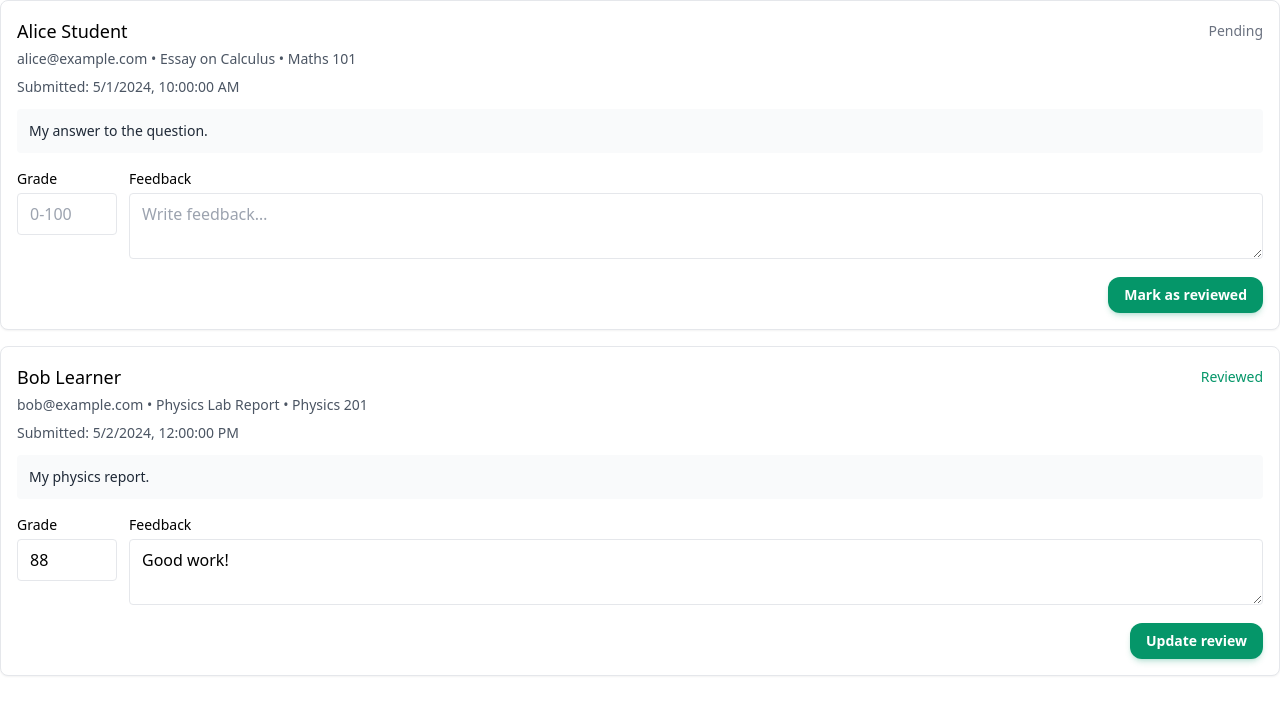
Test case: SubmissionReviewList › shows "Failed to save" on network error during review (FR9)
This screenshot has width=1280, height=720.
Expected: the heading "Alice Student" is shown, [17,17,128,45]
Click the button "Mark as reviewed".
click(1186, 295)  # box [1108,277,1263,313]
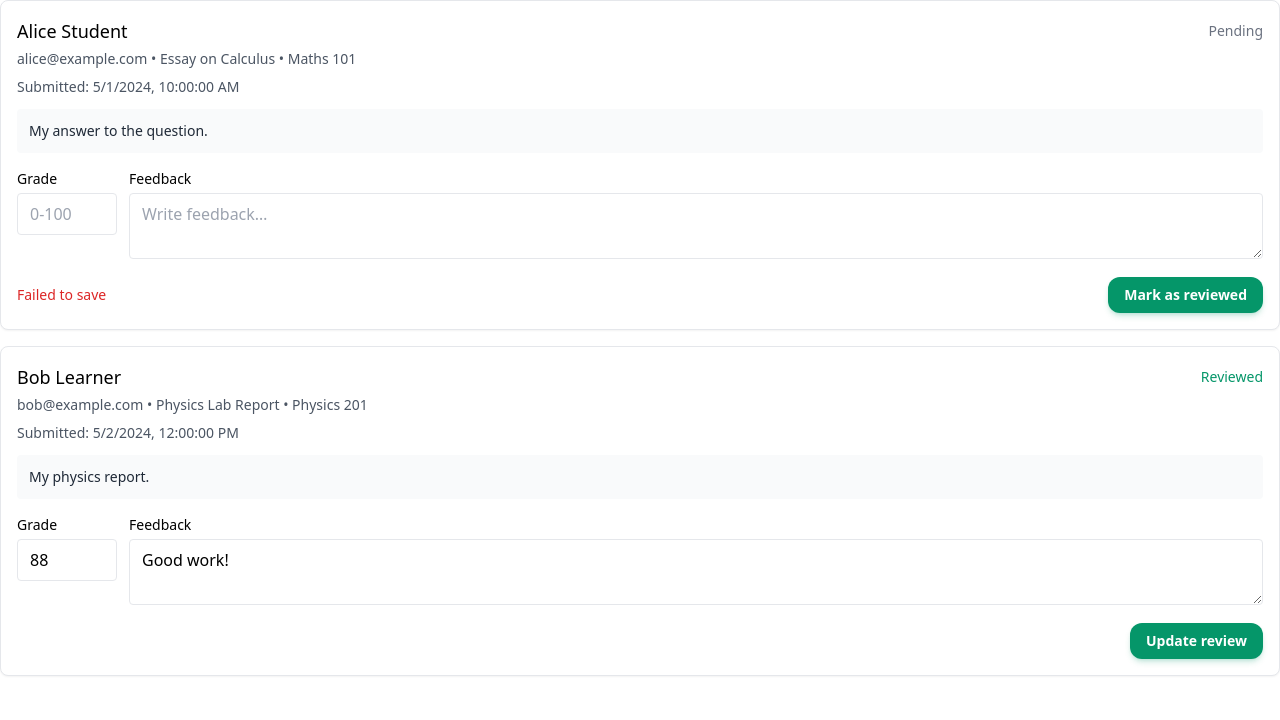
Expected: the text "Failed to save" is shown, [17,285,106,305]
